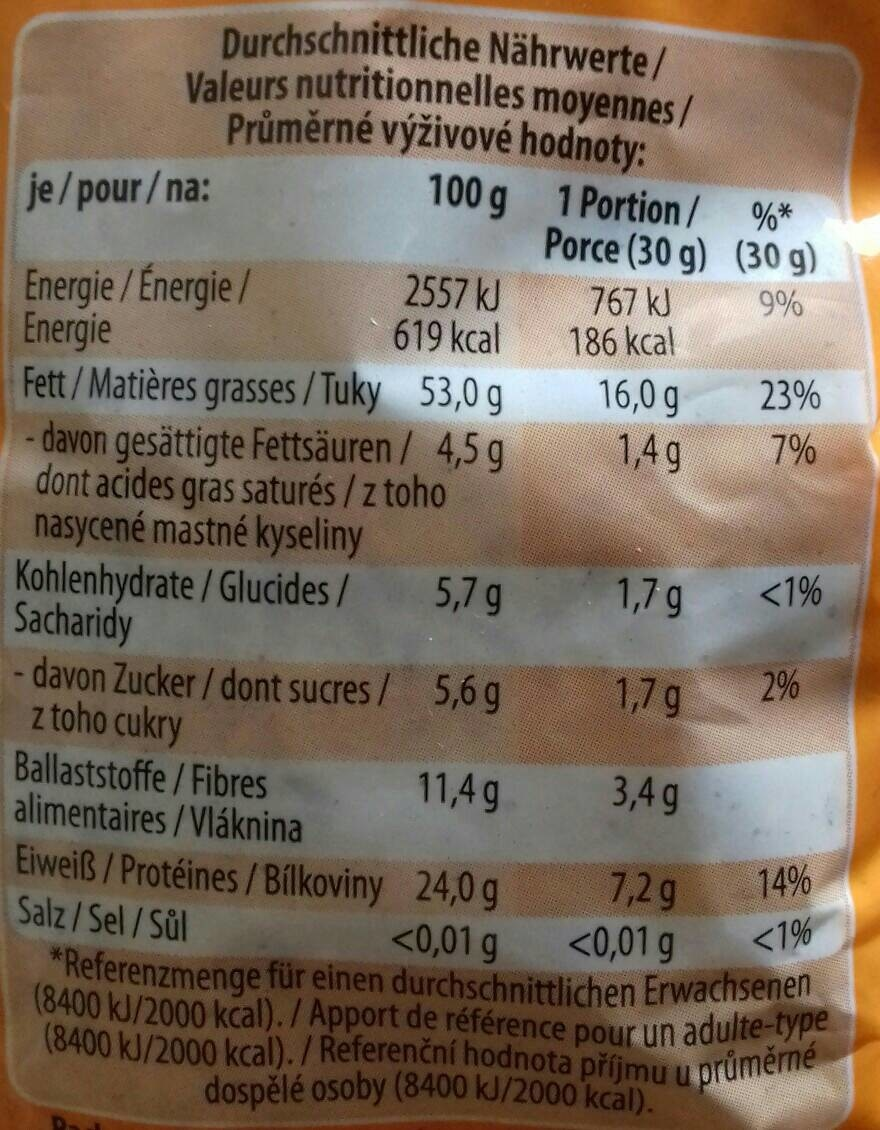column: (14, 156, 508, 958), (528, 174, 712, 962), (723, 186, 831, 959)
table: (1, 14, 857, 962)
